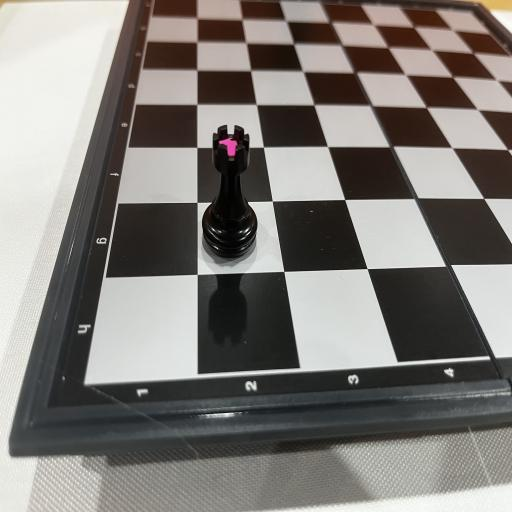Black rook: (202, 124, 257, 258)
